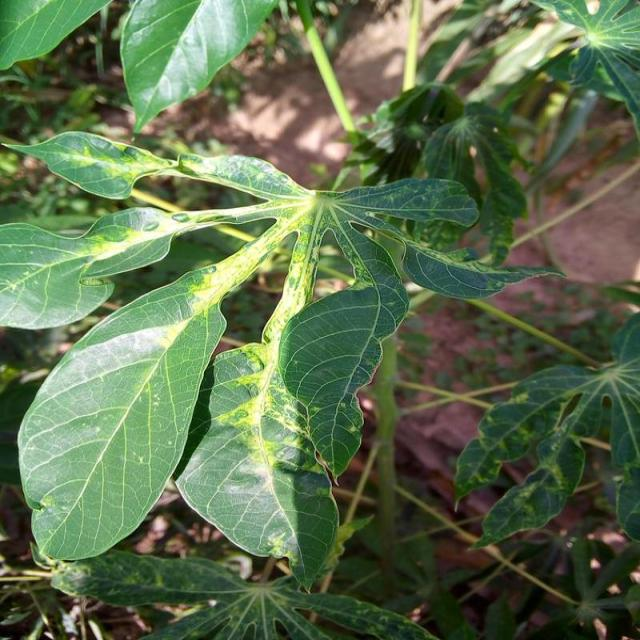cassava leaf: (3, 129, 566, 591), (118, 0, 277, 134), (276, 282, 383, 480)
